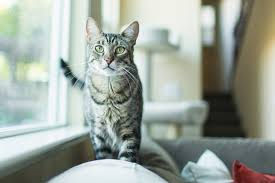cat: (58, 16, 144, 164)
